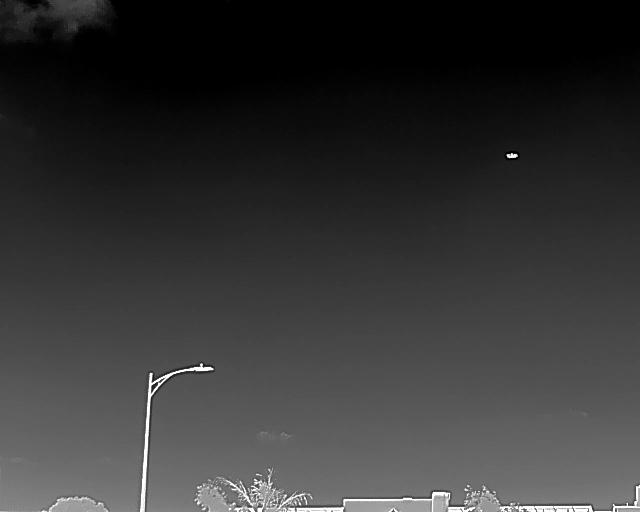fpv-drone: (505, 152, 518, 159)
